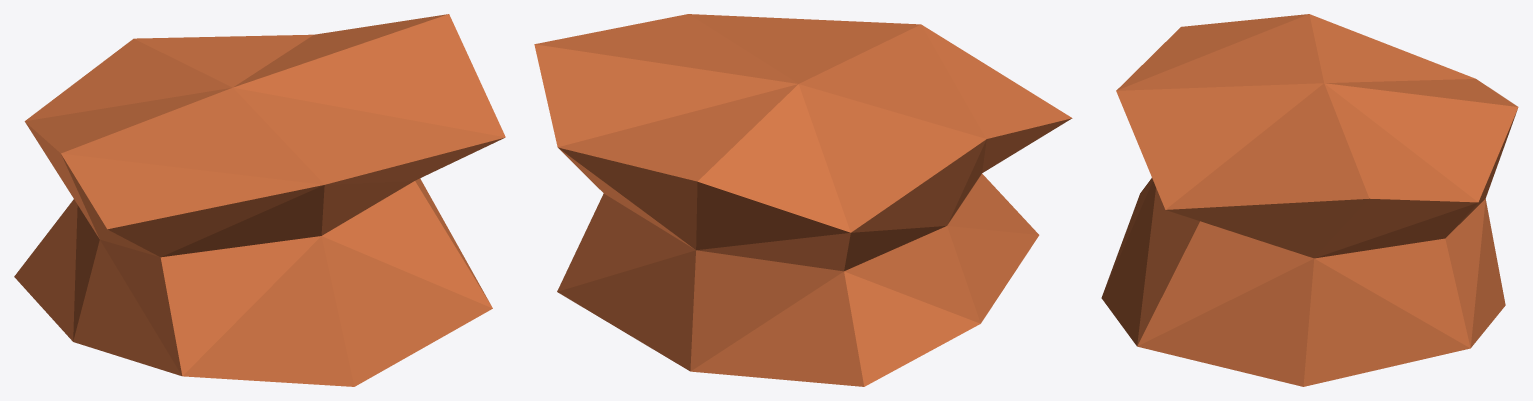
The model's file is Sandstone 3.fbx.
3 renders of one model, left to right at view 1: azimuth 30°, elevation 25°; view 2: azimuth 150°, elevation 25°; view 3: azimuth 270°, elevation 25°, orthographic. The views are drawn at different scales.
Visible parts, largest first — view 1: Sandstone Size 3; view 2: Sandstone Size 3; view 3: Sandstone Size 3.
Boxes of the visible parts, x1=… form: Sandstone Size 3: x1=14, y1=14, x2=505, y2=386; Sandstone Size 3: x1=534, y1=14, x2=1072, y2=386; Sandstone Size 3: x1=1101, y1=14, x2=1518, y2=386.
Size of the model in its own units: 412 by 229 by 348.
